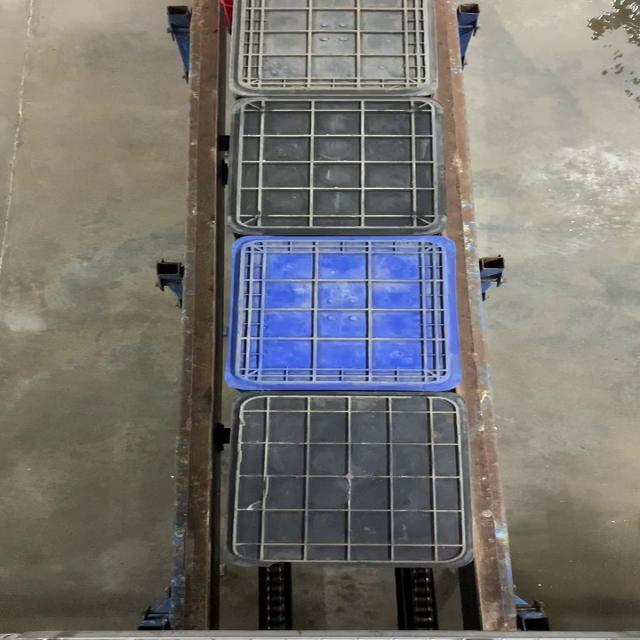Box: (223, 393, 475, 570), (226, 236, 458, 392), (223, 94, 447, 236)
